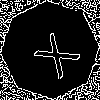X: (25, 25, 81, 80)
